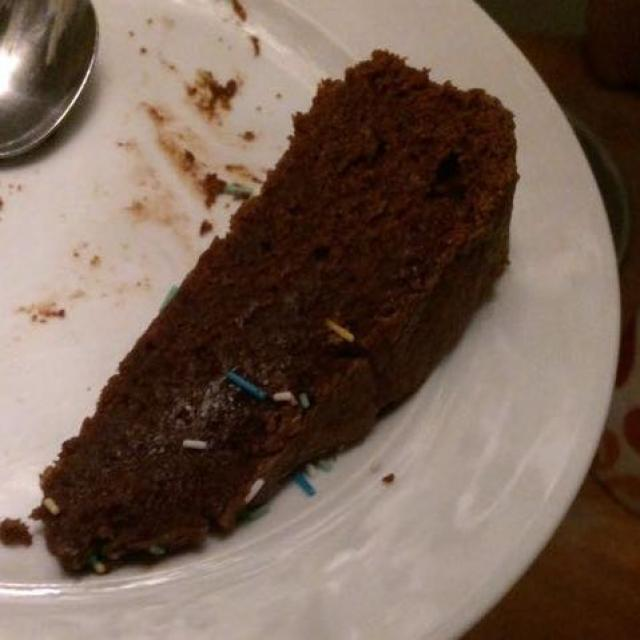cake: (33, 62, 510, 571)
